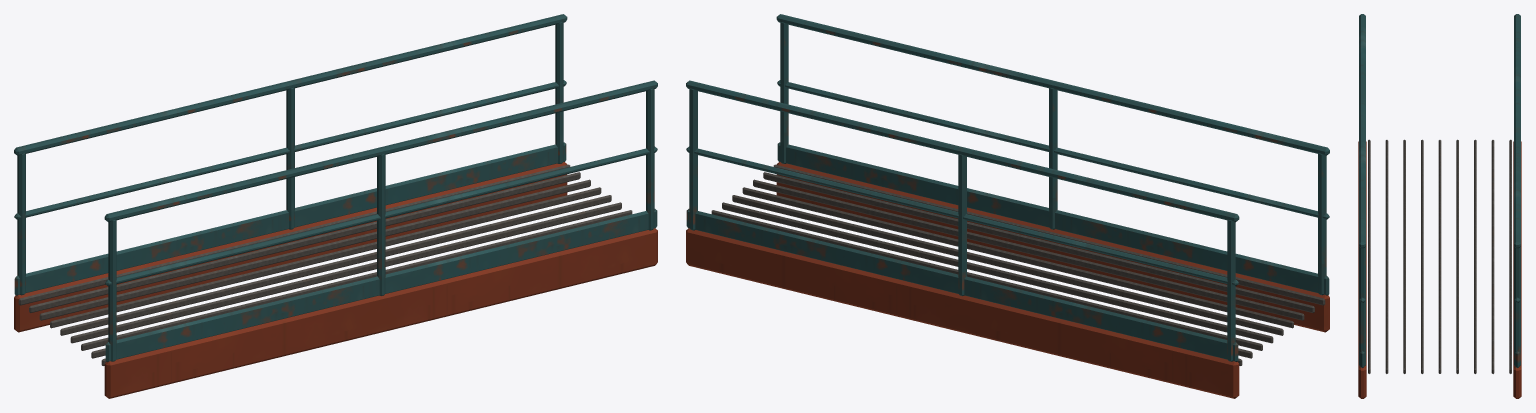
The model's file is WK_STRUCT_CATWALK_A_01.glb.
The picture shows the model from 3 angles, left to right: view 1: azimuth 30°, elevation 25°; view 2: azimuth 150°, elevation 25°; view 3: azimuth 270°, elevation 25°; orthographic projection. The views are drawn at different scales.
Visible parts, largest first — view 1: WK_STRUCT_CATWALK_A_01; view 2: WK_STRUCT_CATWALK_A_01; view 3: WK_STRUCT_CATWALK_A_01.
Boxes of the visible parts, x1,y1,x2,y2 form: WK_STRUCT_CATWALK_A_01: [14, 14, 657, 398]; WK_STRUCT_CATWALK_A_01: [686, 14, 1329, 398]; WK_STRUCT_CATWALK_A_01: [1358, 14, 1521, 398].
Size of the model in its own units: 4 by 1.27 by 1.2.
Materials: 3 (3 with a texture image).
